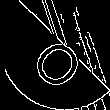O_NE: (22, 21, 88, 89)
